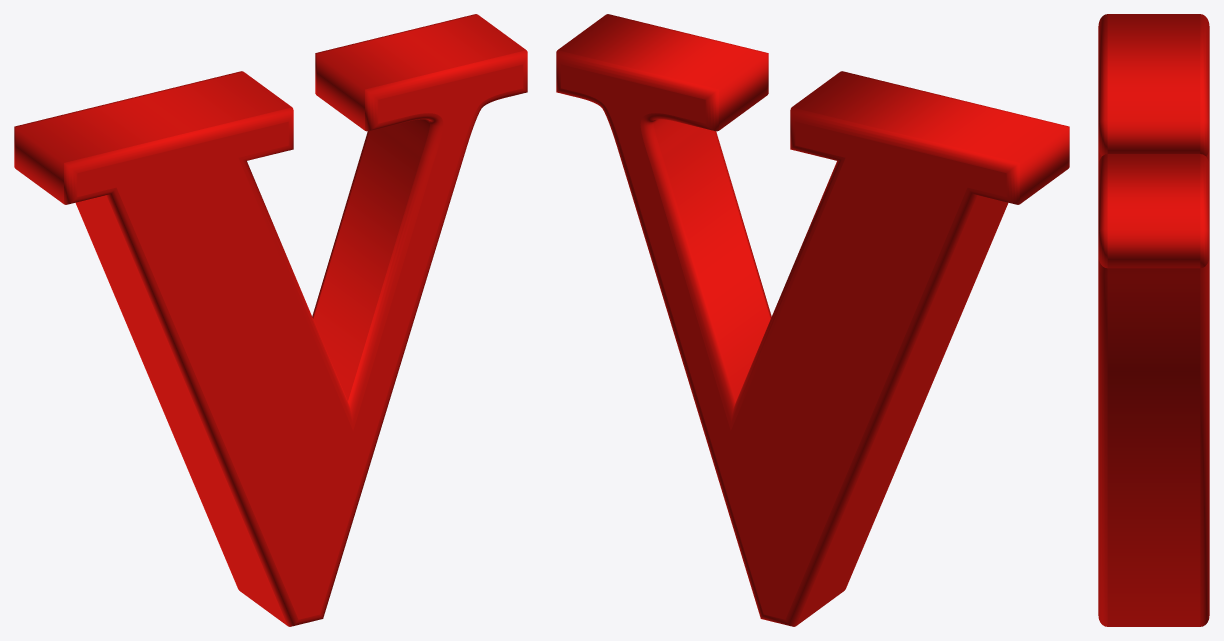
File: capital_v.fbx
3 renders of one model, left to right at view 1: azimuth 30°, elevation 25°; view 2: azimuth 150°, elevation 25°; view 3: azimuth 270°, elevation 25°, orthographic. The views are drawn at different scales.
Visible parts, largest first — view 1: Text; view 2: Text; view 3: Text.
Boxes of the visible parts, x1,y1,x2,y2 form: Text: [14, 14, 527, 626]; Text: [556, 14, 1069, 626]; Text: [1098, 14, 1209, 626].
Size of the model in its own units: 210 by 225 by 45.87.
